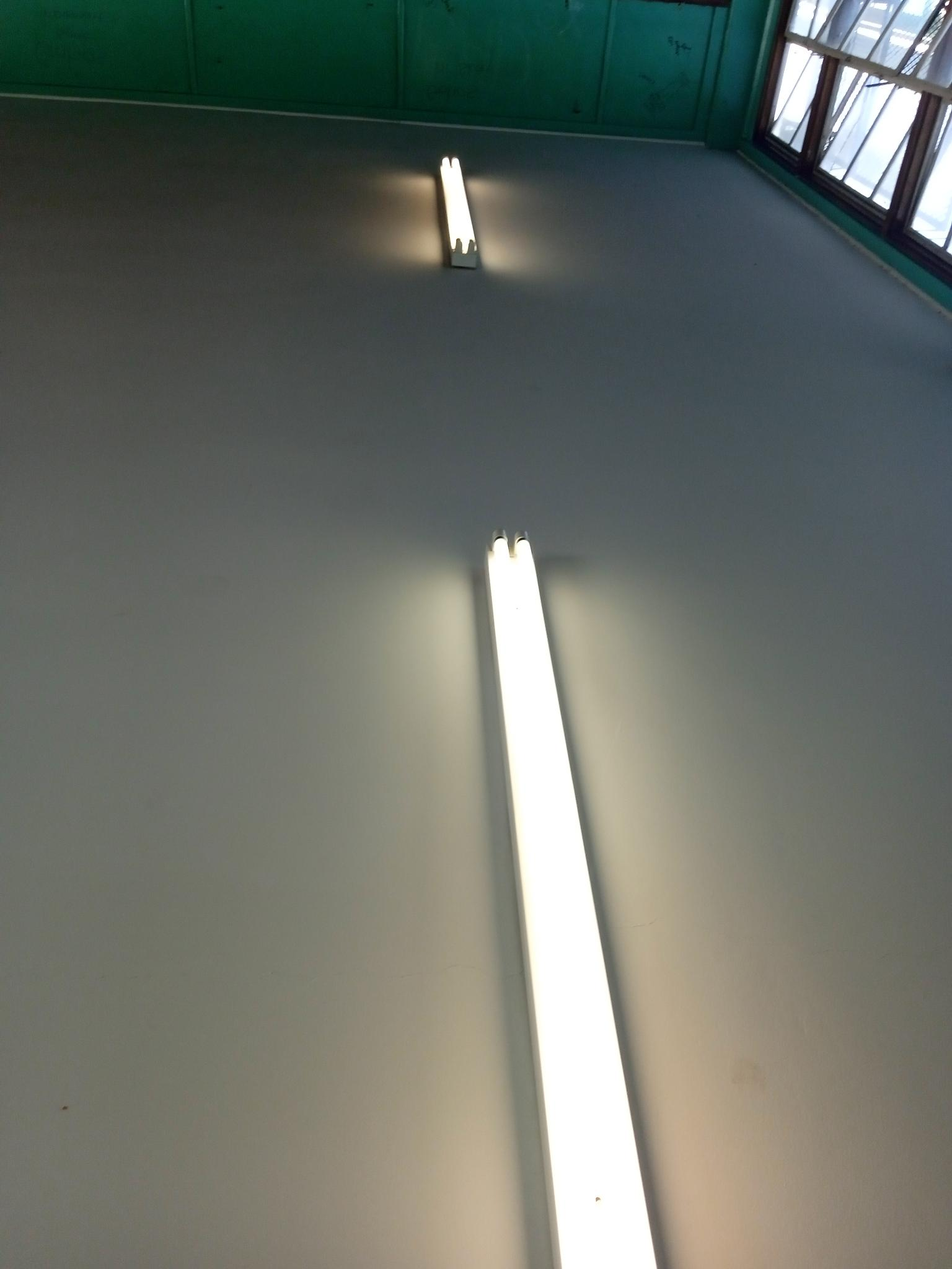light: (483, 529, 659, 1267), (438, 154, 479, 269)
